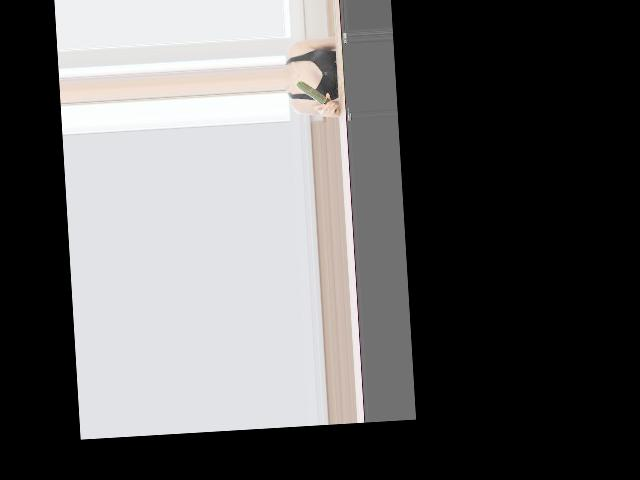cucumber: (295, 79, 337, 115)
